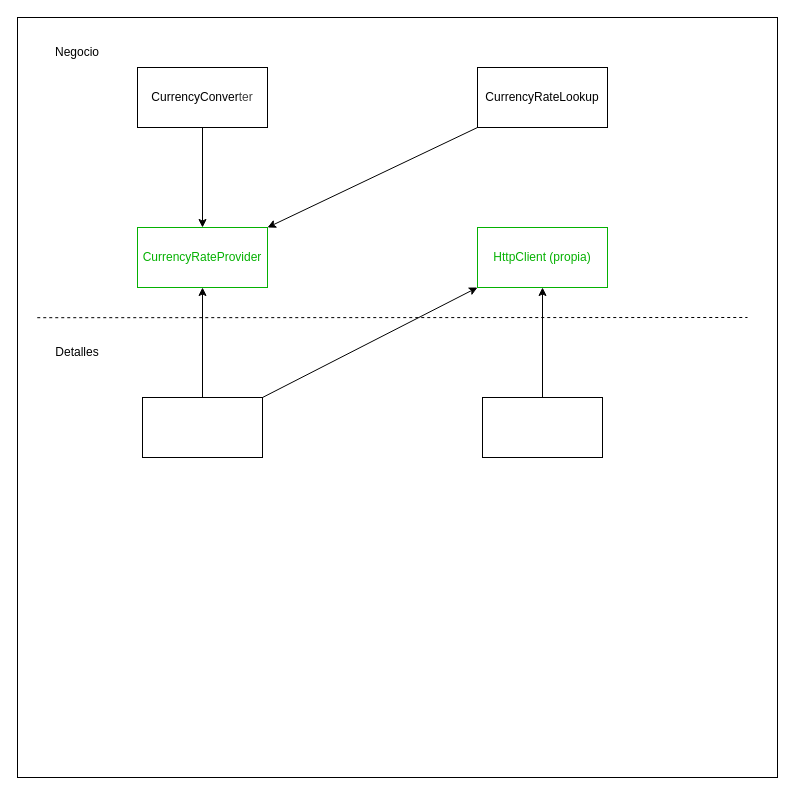
This 795x795 diagram has some shape labels left out. The shapes that lost their labels are listed below. From the top down, each one's centre as x and y in pixels, then its label:
At [202,427]: "Implementación (Llamados a API específica)".
At [542,427]: "Implementación (UniRest si o si?)".
